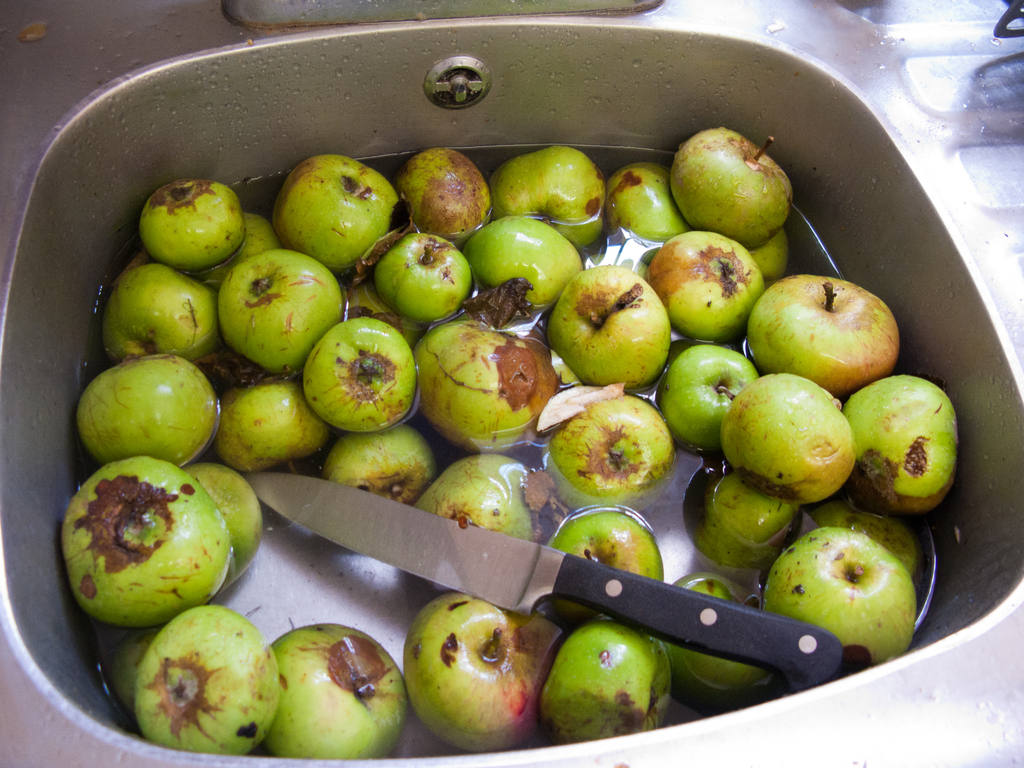Apple: (51, 122, 958, 761), (760, 516, 930, 665)
